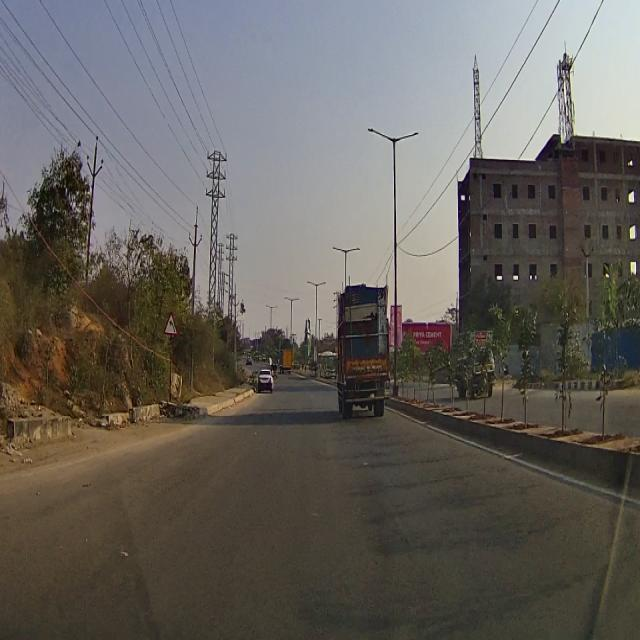truck ahead at: (338, 285, 394, 420)
